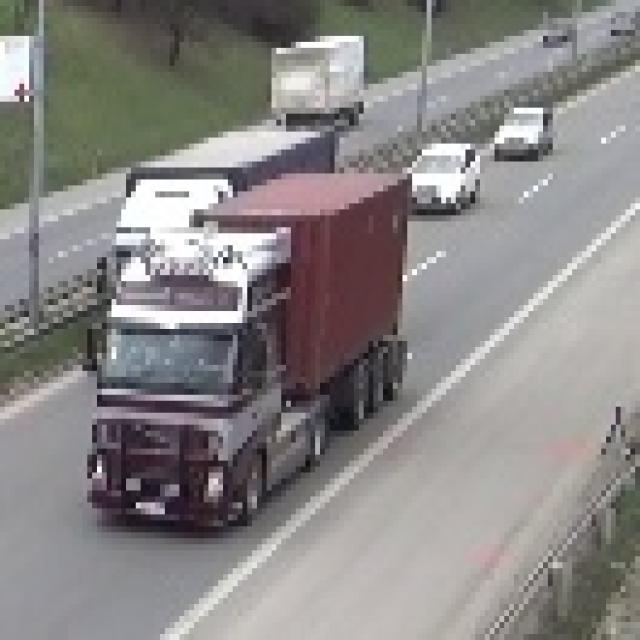SUV: (405, 141, 482, 215), (495, 108, 557, 164)
TRUCK: (88, 180, 411, 532), (273, 38, 369, 129)
